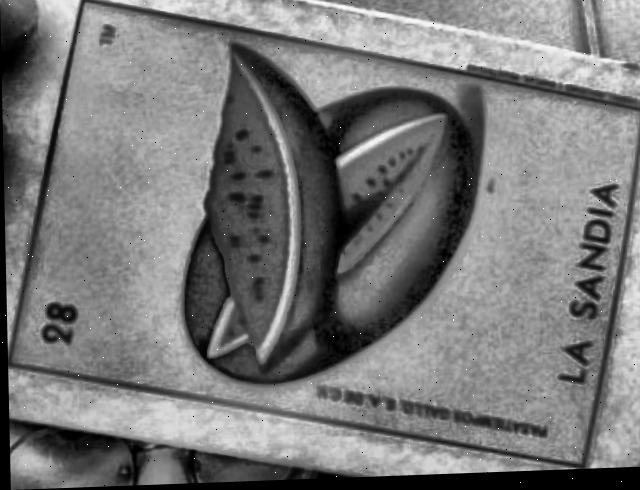La Sandia: (7, 0, 640, 469)
